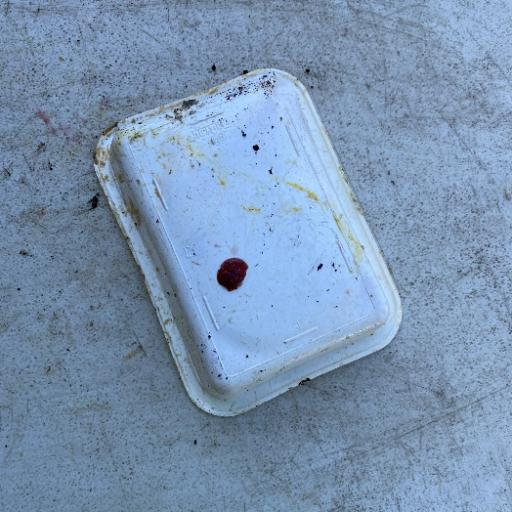Plastic: (91, 66, 404, 418)
